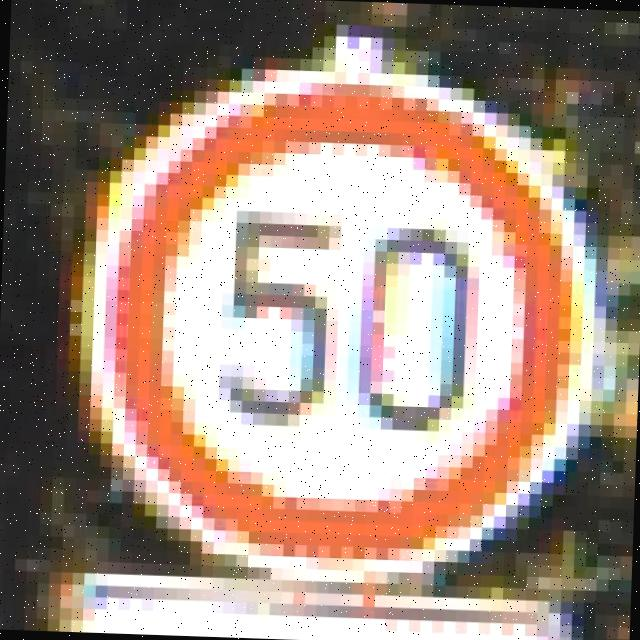Ograniczenie predkosci do 50: (96, 70, 595, 584)
